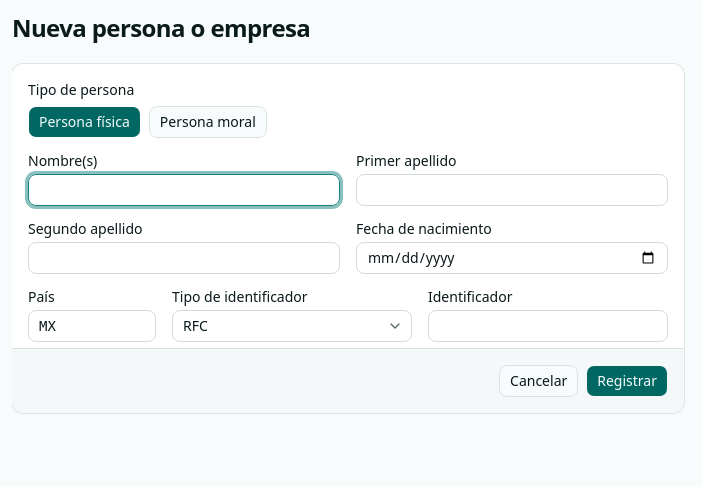
Scenario: CreatePartyPage › says so when a party with that identifier exists (409 IDENTIFIER_EXISTS)
Type "Ana María" into the field labelled "Nombre(s)" at (184,190), box [28,174,340,206]
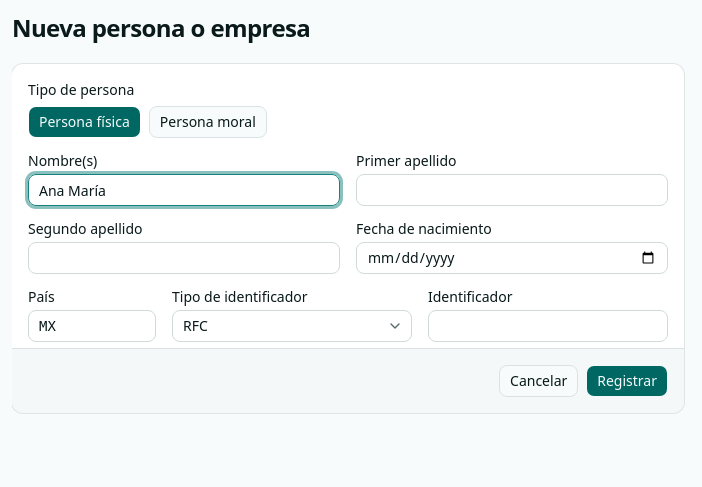
Type "Pérez" into the field labelled "Primer apellido" at (512,190), box [356,174,668,206]
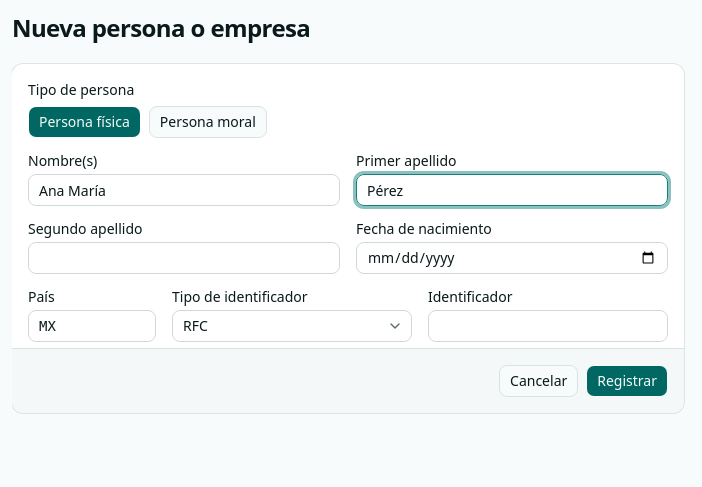
Type "CACX7605101P8" into the field labelled "Identificador" at (548,326), box [428,310,668,342]
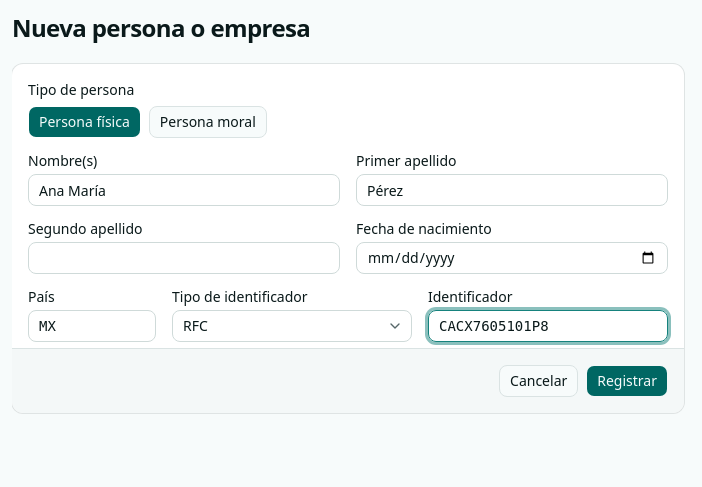
Click the button "Registrar" at (627,381), box [586,365,668,397]
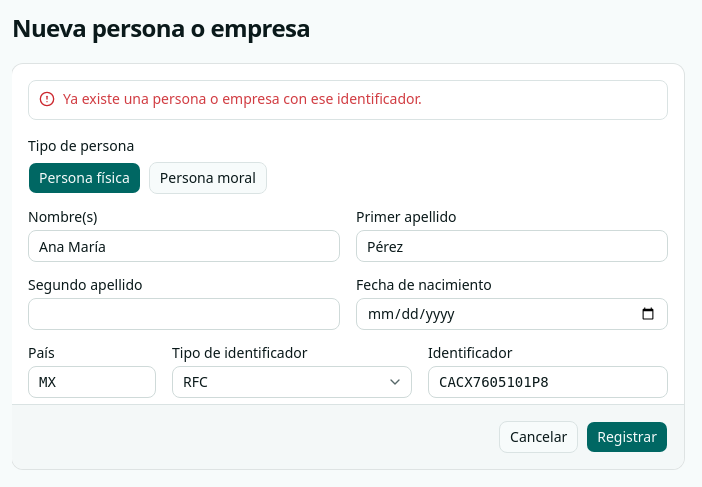
expect the message reads "Ya existe una persona o empresa con ese identificador.": met, box [63,89,422,108]
